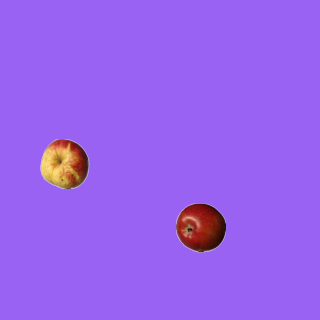Apple Braeburn: (175, 202, 225, 252)
Apple Red Yellow 1: (39, 138, 89, 188)
